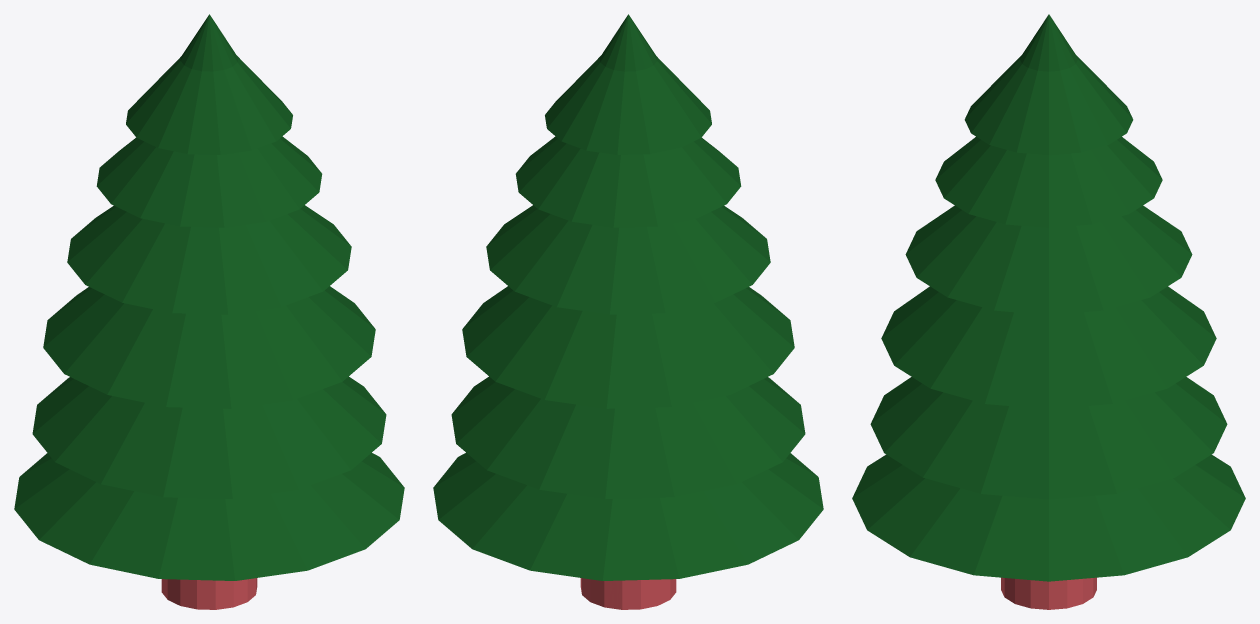
File: Tree.fbx
3 renders of one model, left to right at view 1: azimuth 30°, elevation 25°; view 2: azimuth 150°, elevation 25°; view 3: azimuth 270°, elevation 25°, orthographic.
Visible parts, largest first — view 1: Cylinder; view 2: Cylinder; view 3: Cylinder.
Boxes of the visible parts, x1,y1,x2,y2 form: Cylinder: (14,14,404,609); Cylinder: (433,14,823,609); Cylinder: (852,14,1245,609).
Bounding box in the file's own units: 125 × 202 × 125.
